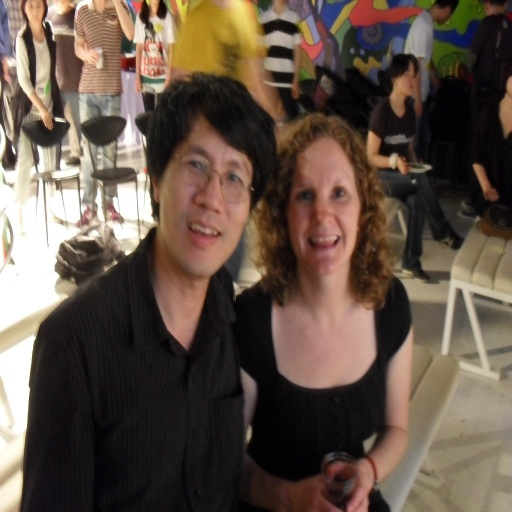hand: (327, 462, 373, 511), (287, 472, 341, 511), (39, 104, 53, 132), (82, 46, 102, 64), (397, 152, 412, 176), (480, 188, 501, 204), (414, 99, 423, 120), (163, 74, 173, 89), (134, 76, 142, 94), (291, 86, 299, 102)
